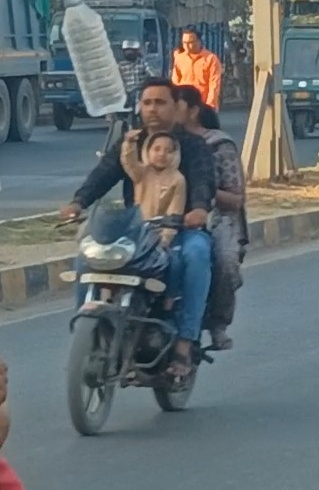BikeWithRider: (47, 74, 254, 442)
NoHelmet: (130, 74, 185, 132), (135, 127, 185, 175), (167, 80, 210, 130)
